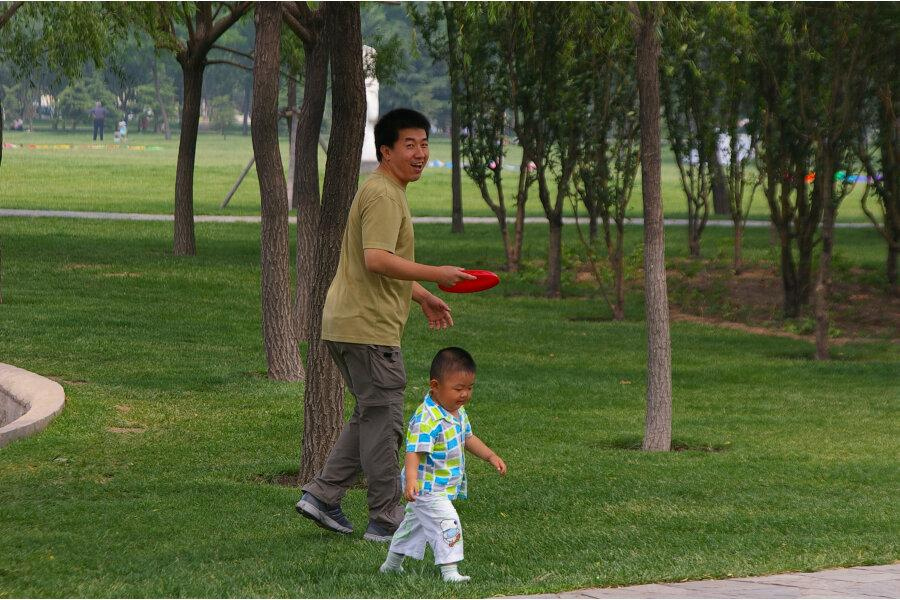person: (296, 108, 483, 543)
